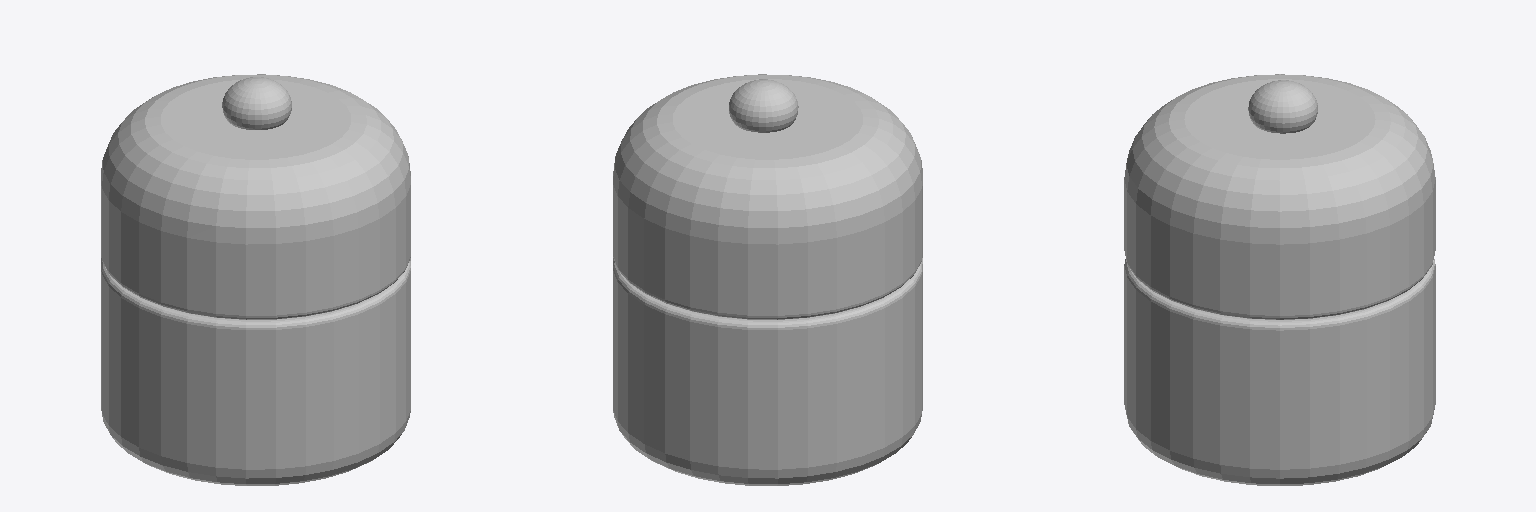
The model's file is SetA_Container_Style_16.obj.
The picture shows the model from 3 angles: view 1: azimuth 30°, elevation 25°; view 2: azimuth 150°, elevation 25°; view 3: azimuth 270°, elevation 25°; orthographic projection.
Visible parts, largest first — view 1: SetA_Container_Style_16; view 2: SetA_Container_Style_16; view 3: SetA_Container_Style_16.
Boxes of the visible parts, <box> form: SetA_Container_Style_16: <box>101,74,410,485</box>; SetA_Container_Style_16: <box>613,74,922,485</box>; SetA_Container_Style_16: <box>1124,74,1435,485</box>.
Bounding box in the file's own units: 0.1431 × 0.1755 × 0.1431.